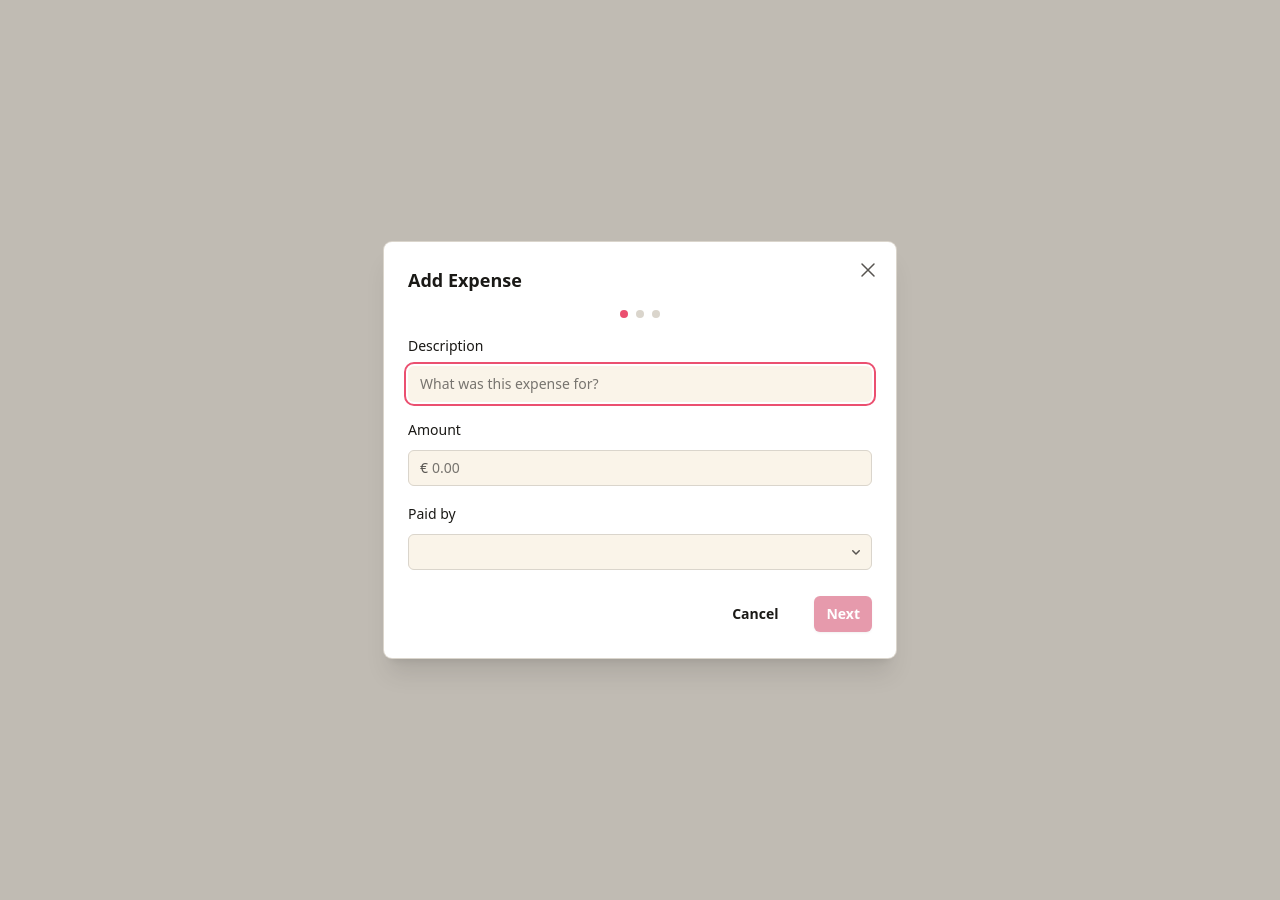
Scenario: AddExpenseModal wizard › shows member checkboxes when switching to specific people mode
The width and height of the screenshot is (1280, 900).
Type "Test" into the field with test id "expense-description-input" at point(640, 384), box [408,366,872,402]
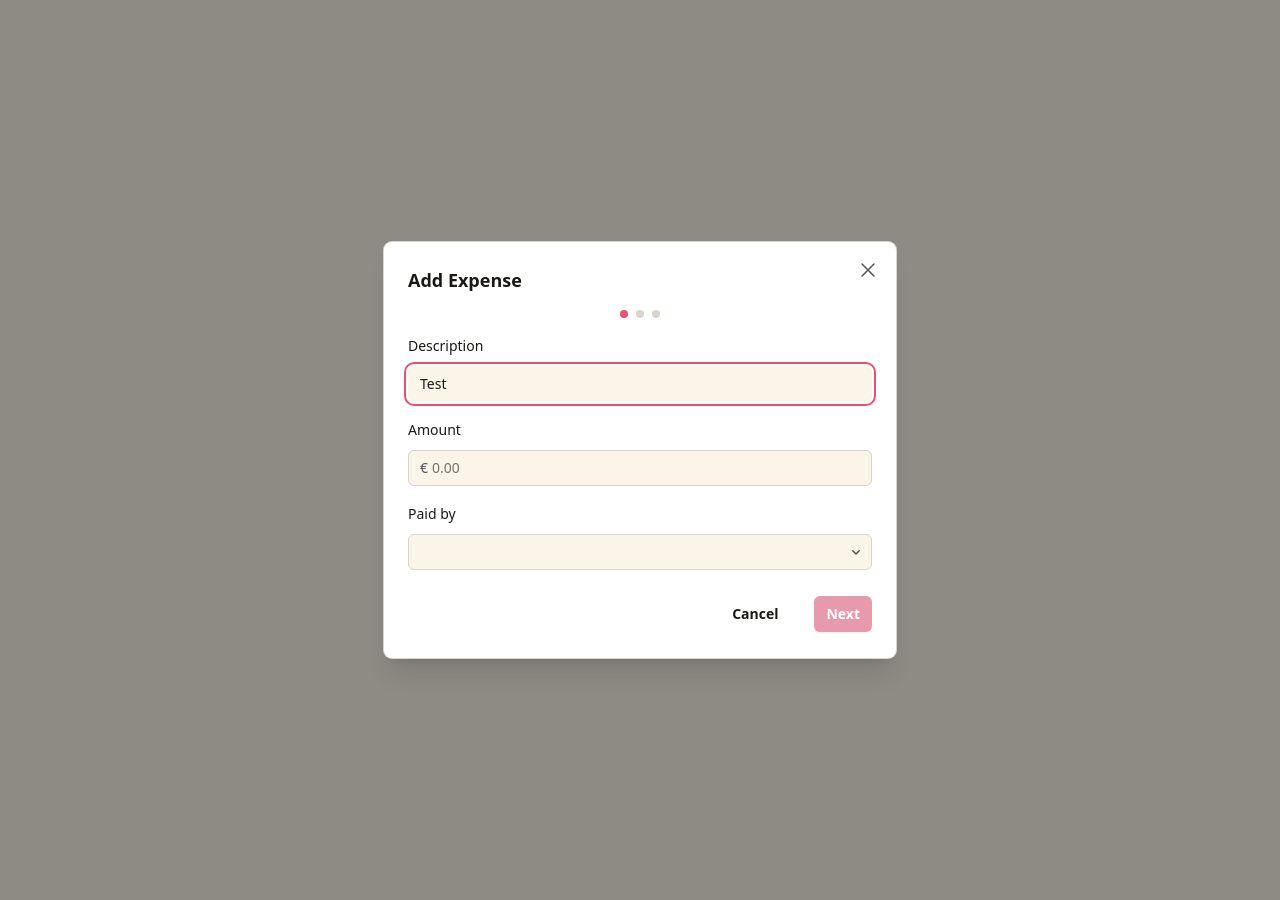
Type "10" into the field with test id "expense-amount-input" at point(650, 468), box [428,450,872,486]
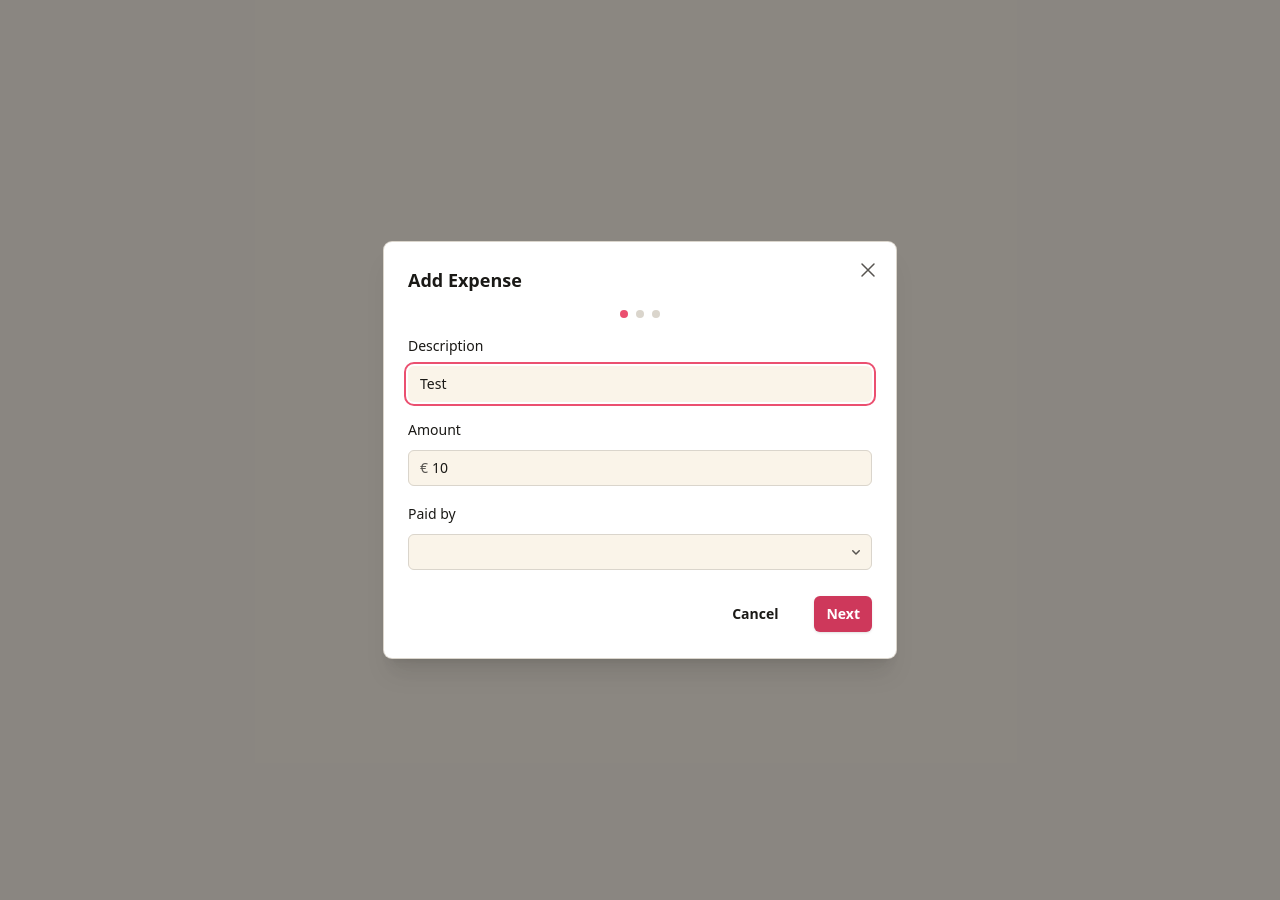
Submit the form, box [408,310,872,634]
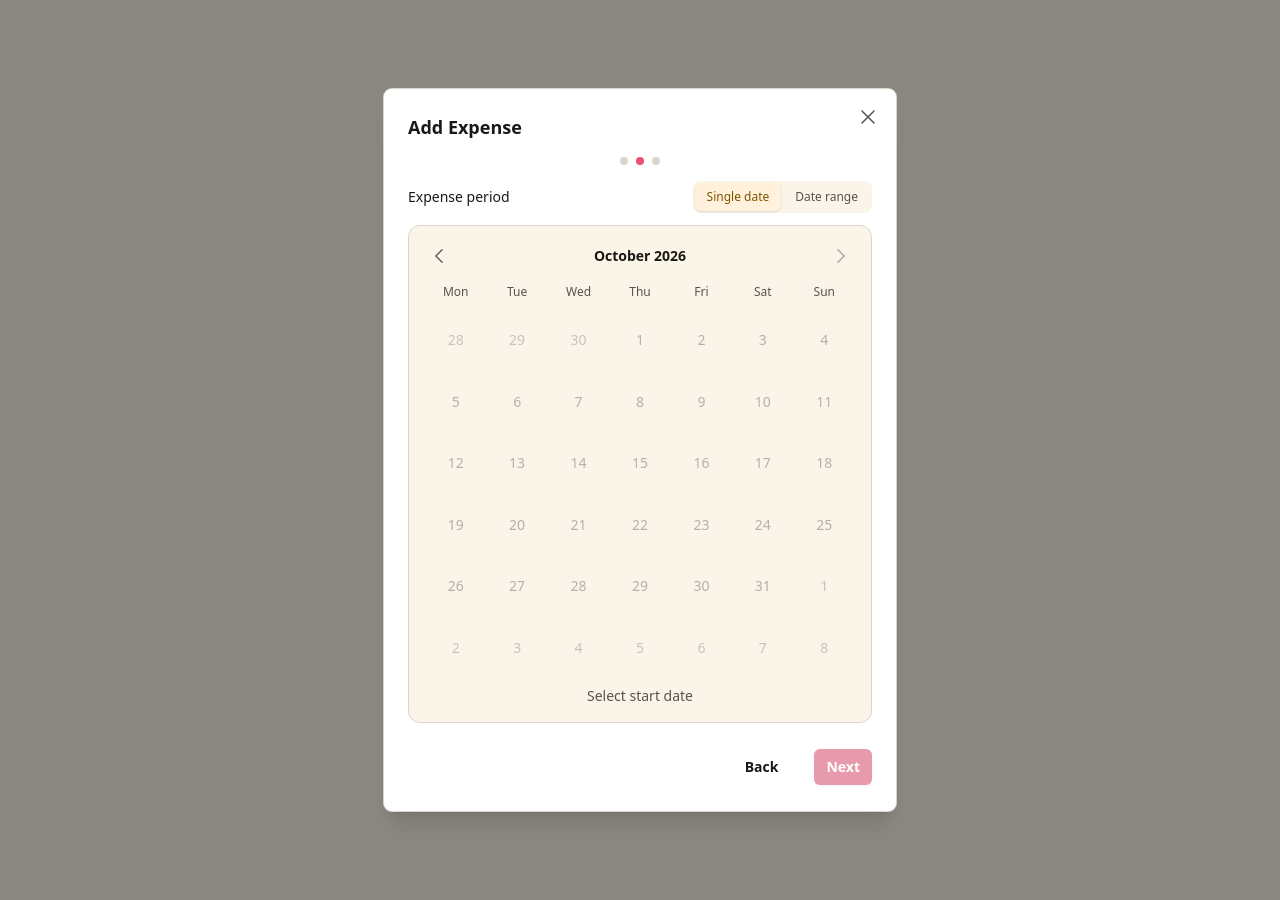
Submit the form, box [408,157,872,787]
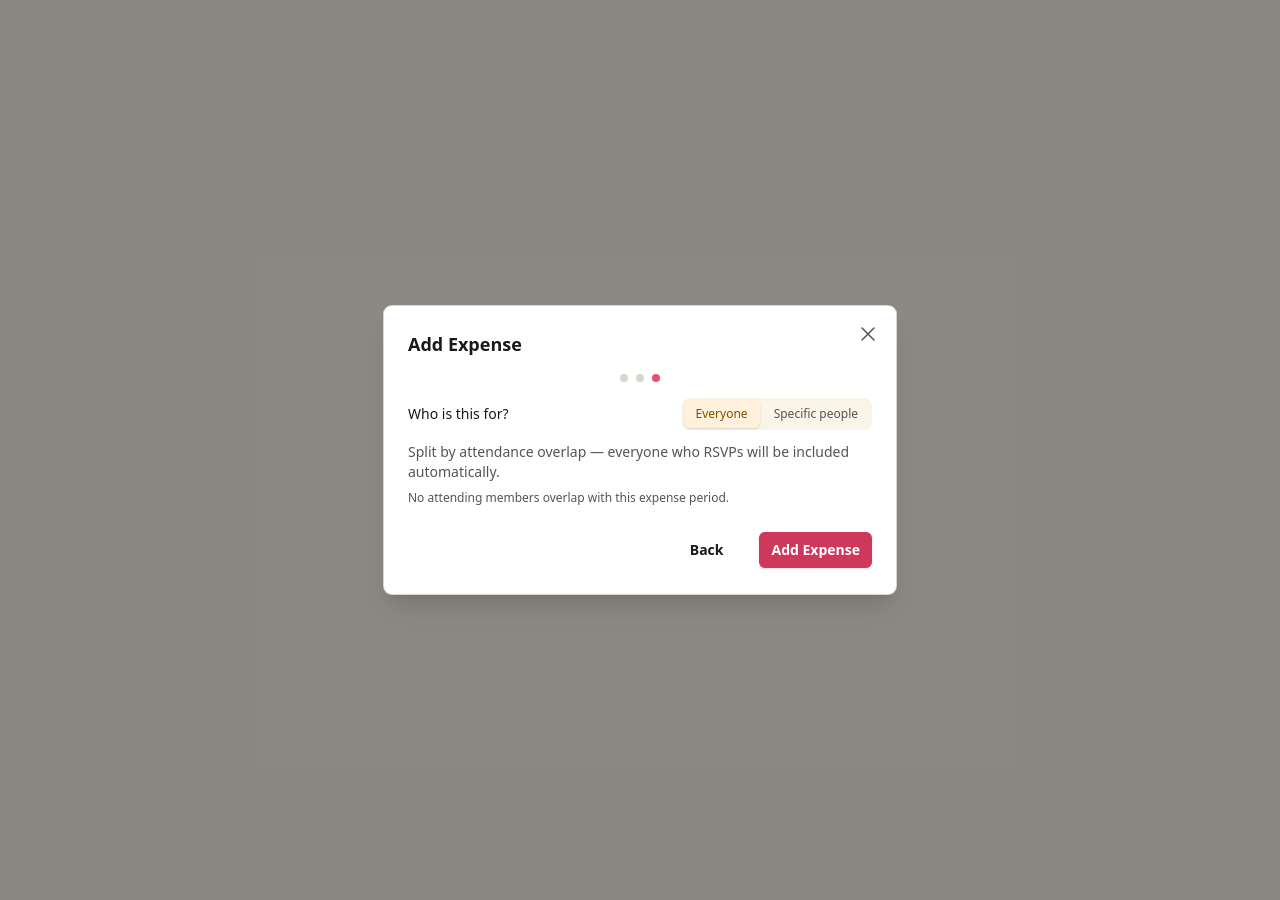
Click the button "Specific people" at point(816, 414), box [762,400,870,428]
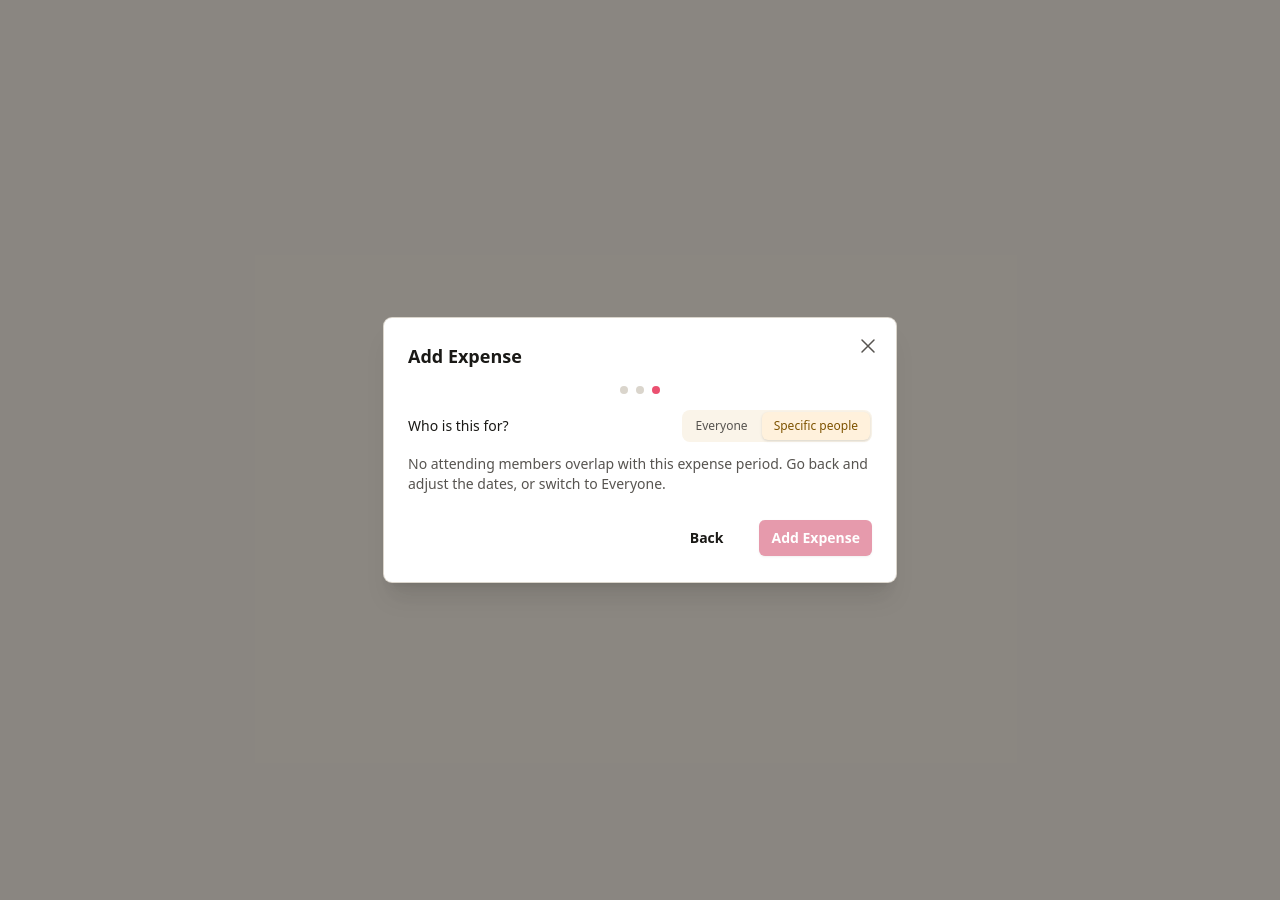
Expected: the text "Split by attendance overlap" is gone
